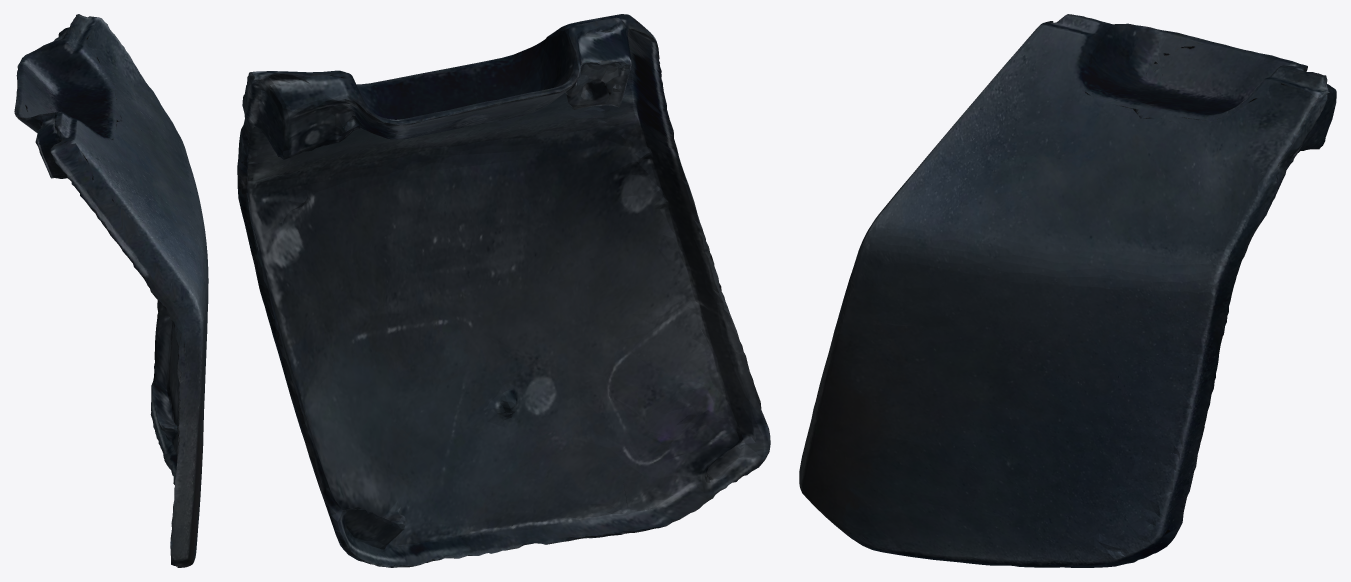
The model's file is SPD-06546X-B.obj.
The picture shows the model from 3 angles, left to right: view 1: azimuth 30°, elevation 25°; view 2: azimuth 150°, elevation 25°; view 3: azimuth 270°, elevation 25°; orthographic projection. The views are drawn at different scales.
Parts seen in each view (by area): view 1: SPD-06546X-B; view 2: SPD-06546X-B; view 3: SPD-06546X-B.
Boxes of the visible parts, x1,y1,x2,y2 form: SPD-06546X-B: (14,14,208,567); SPD-06546X-B: (237,14,770,567); SPD-06546X-B: (799,14,1336,567).
Size of the model in its own units: 89.03 by 171 by 161.
1 material, 1 textured.
